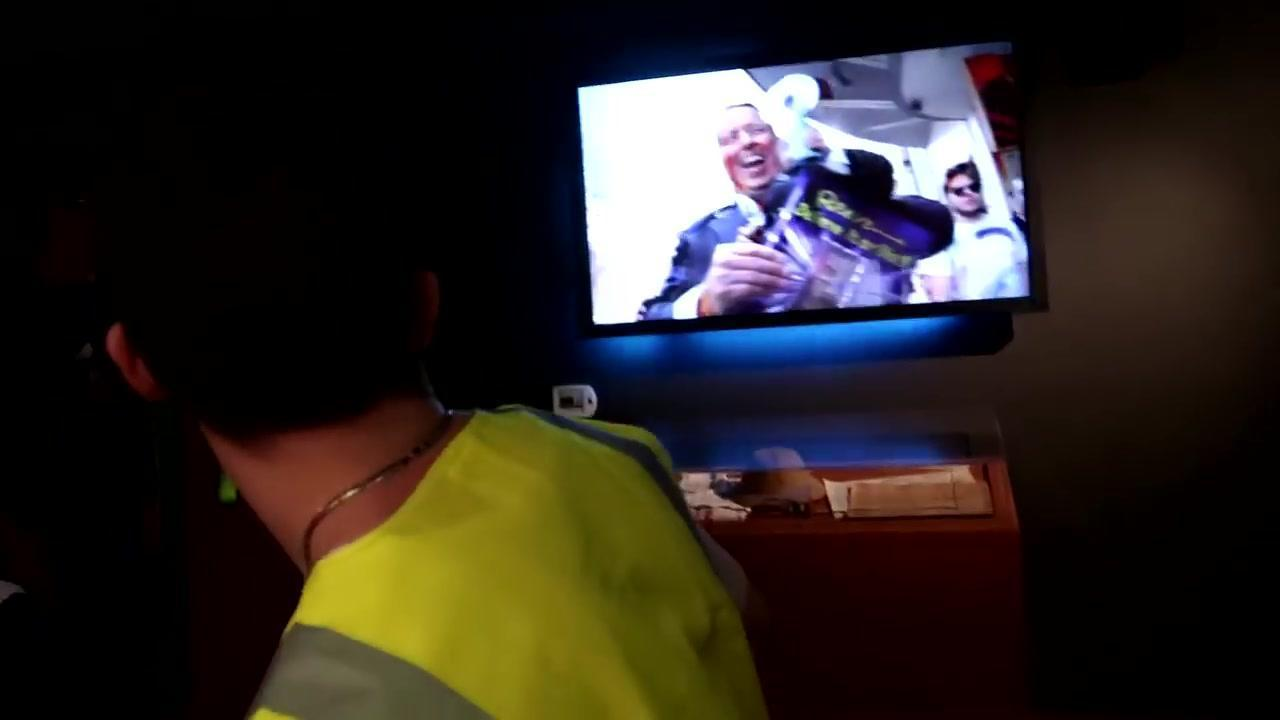vest: (246, 393, 771, 718)
